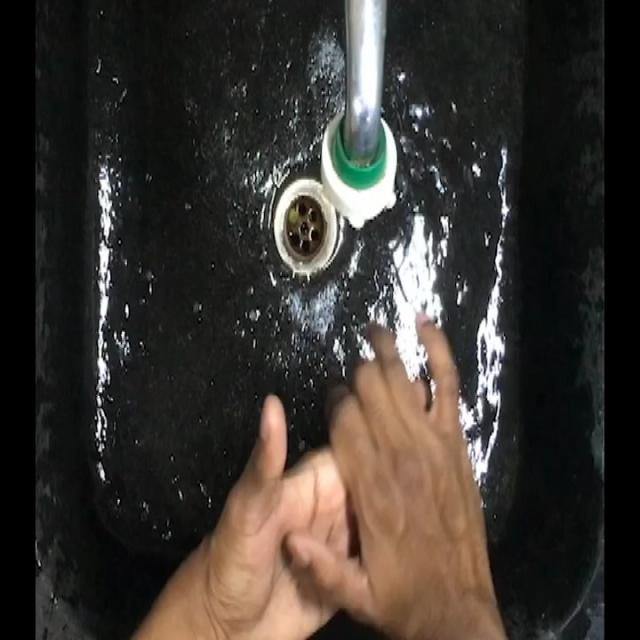step_5: (204, 307, 486, 638)
